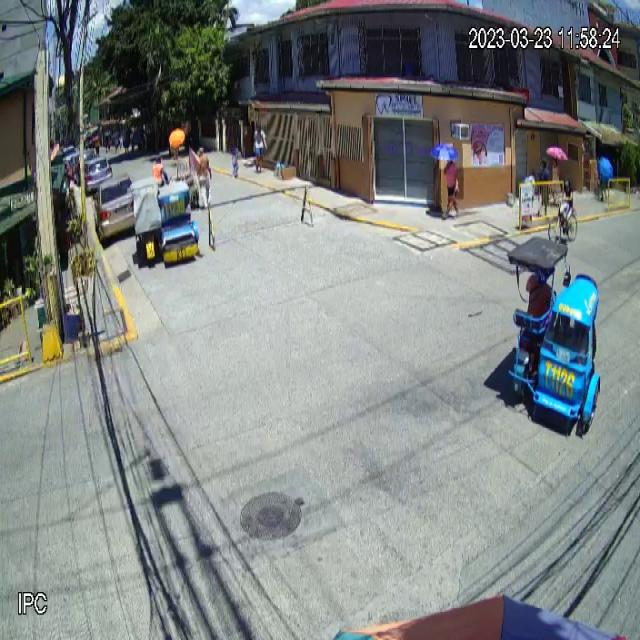Tricycle: (506, 235, 600, 435), (129, 177, 201, 268)
